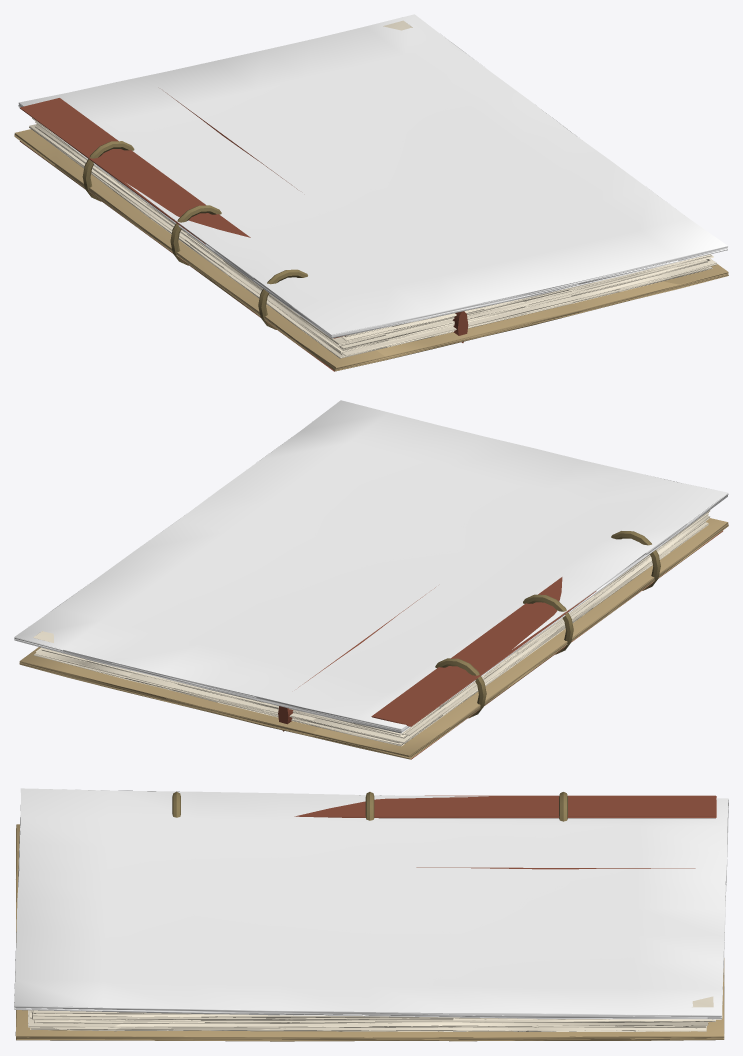
Rendered from menu.glb.
The picture shows the model from 3 angles, top to bottom: view 1: azimuth 30°, elevation 25°; view 2: azimuth 150°, elevation 25°; view 3: azimuth 270°, elevation 25°; orthographic projection. The views are drawn at different scales.
Parts seen in each view (by area): view 1: CafeMenu; view 2: CafeMenu; view 3: CafeMenu.
Part boxes in pixels (x1,y1,x2,y2): CafeMenu: (14, 14, 728, 371); CafeMenu: (14, 400, 728, 759); CafeMenu: (14, 788, 728, 1041).
Size of the model in its own units: 0.2178 by 0.0308 by 0.3032.
